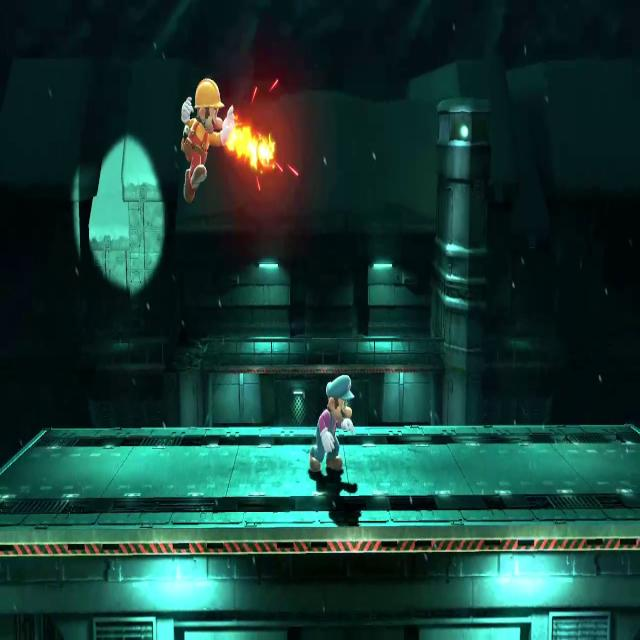Mario: (306, 369, 357, 479)
Mario-NB: (175, 67, 237, 207)
